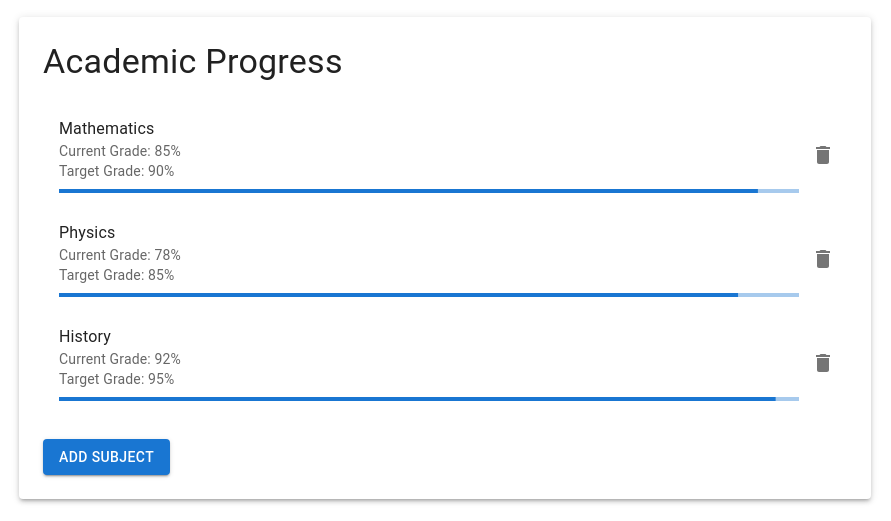
Test: Progress Component › can delete subject
Click the button with test id "DeleteIcon".
click(823, 155)  # box [803, 135, 843, 175]
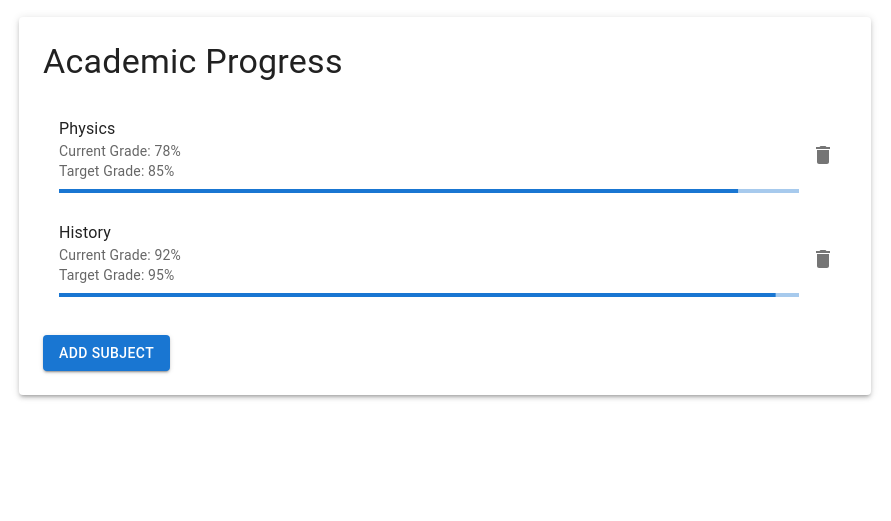
Now the text "Mathematics" is gone
